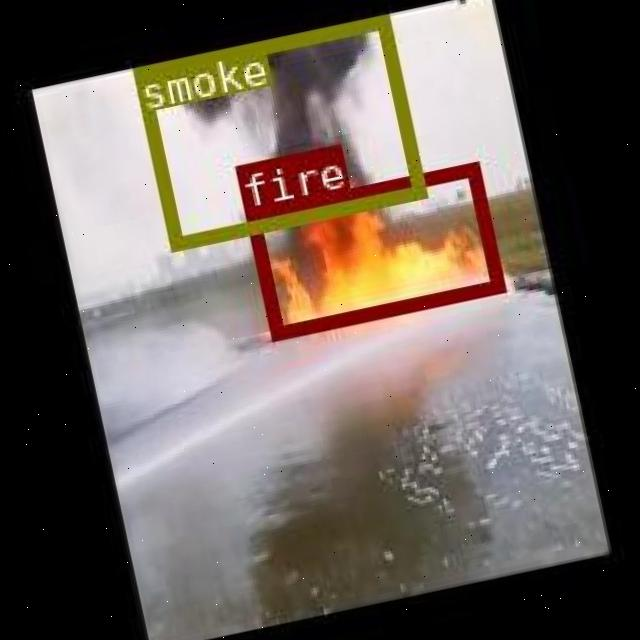fire: (244, 160, 502, 338)
smoke: (131, 12, 424, 248)
